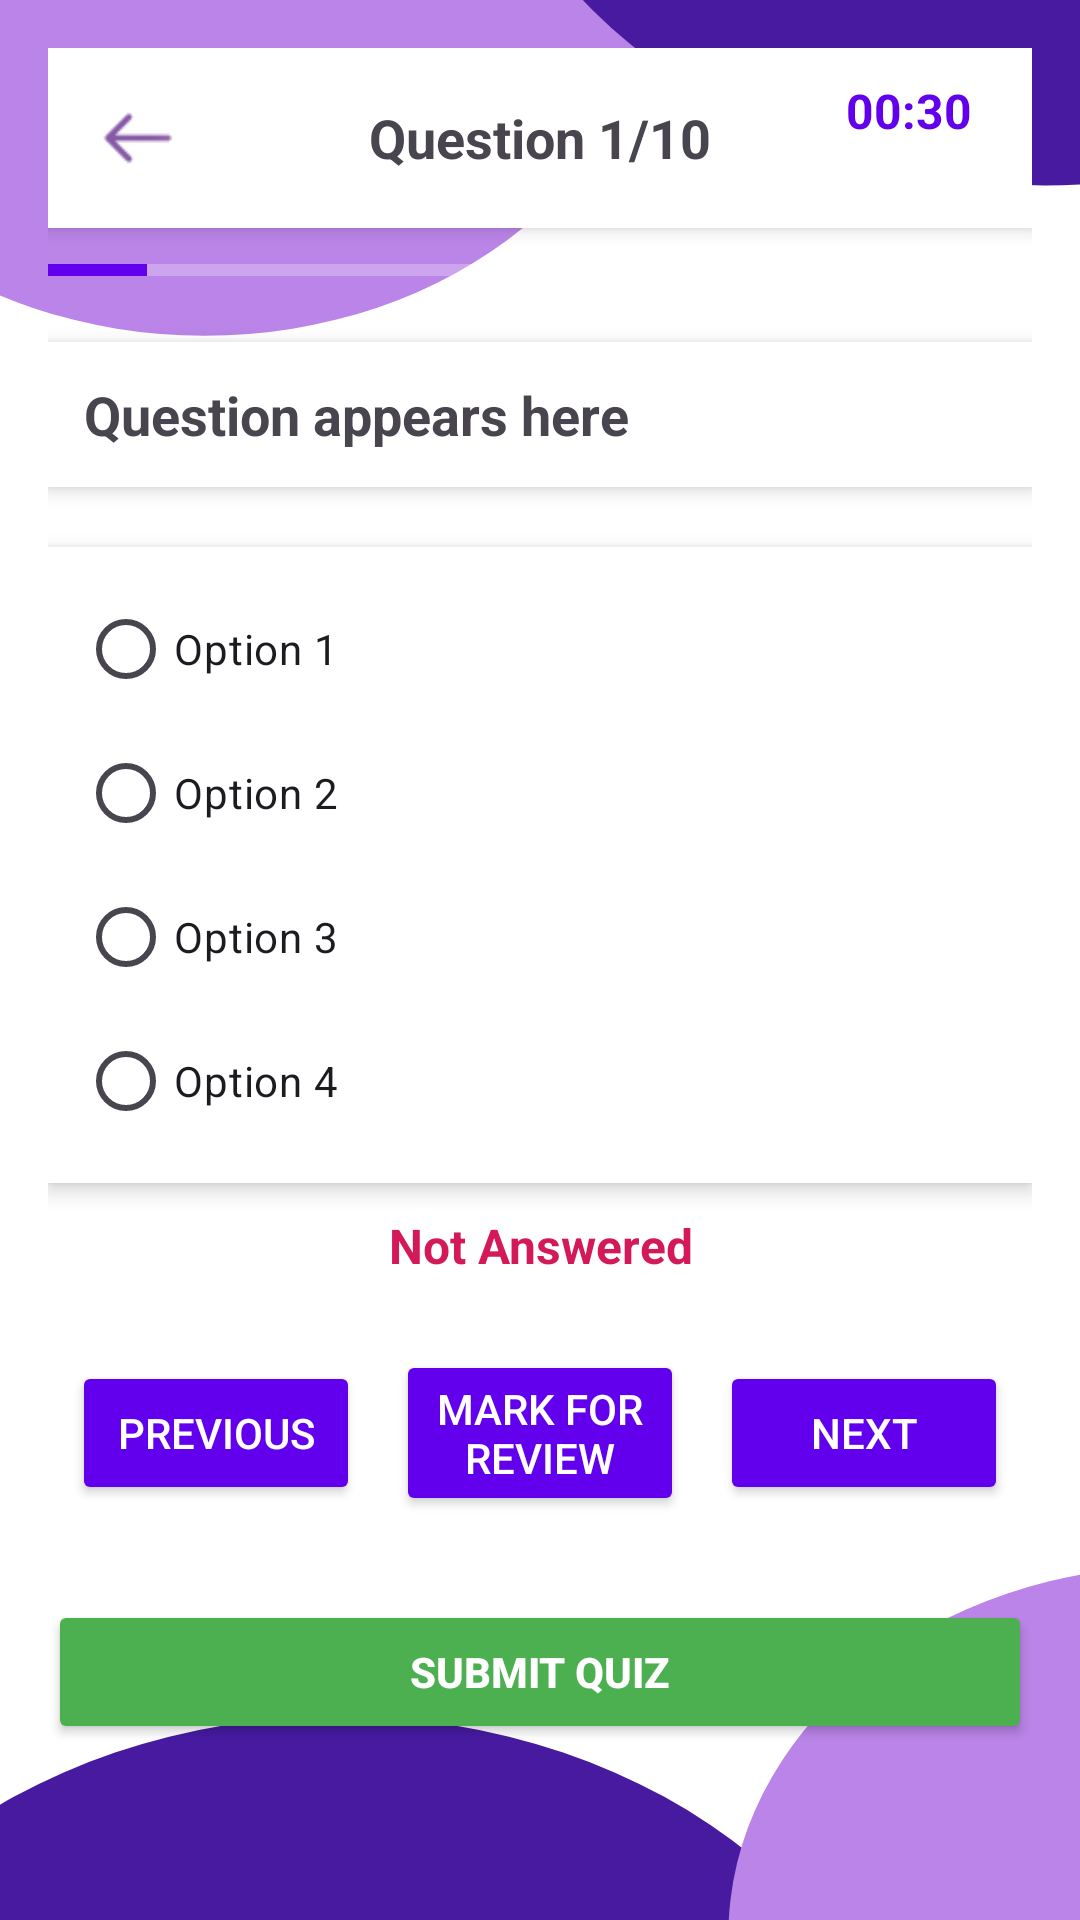

Icon bounding boxes for this 1080*1920 phone screenshot, format (x1, y1, x2, y2):
Back Button: (104, 113, 172, 163)
